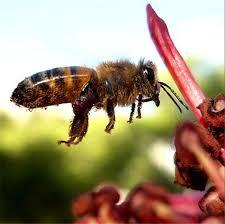Apis-mellifera-scutellata: (7, 46, 174, 147)
